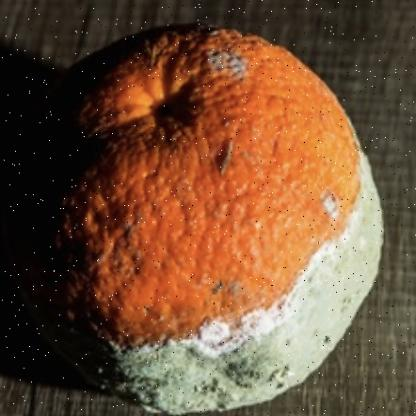rotten: (27, 21, 383, 416)
